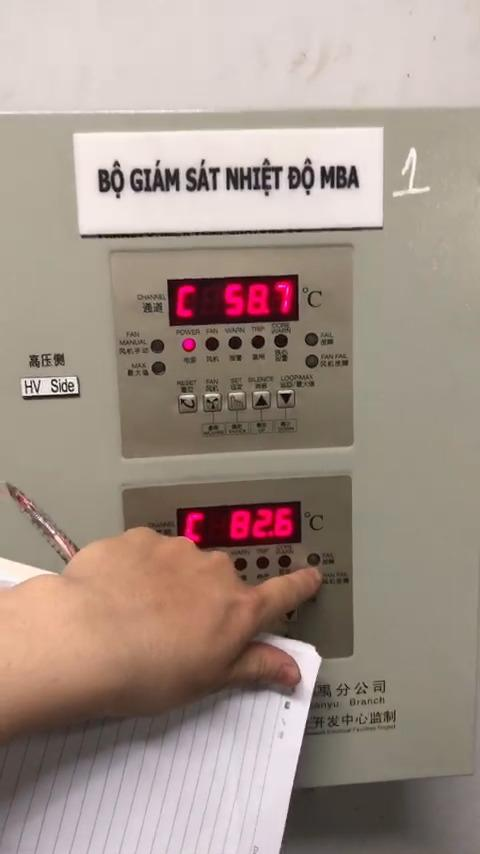led: (250, 334, 267, 351), (203, 336, 221, 352), (303, 332, 320, 348), (150, 360, 167, 376), (180, 337, 198, 352), (274, 333, 290, 349), (150, 338, 166, 354), (304, 354, 320, 370), (255, 555, 271, 571), (227, 336, 243, 351), (277, 554, 293, 569), (233, 557, 248, 572), (305, 553, 321, 566)
